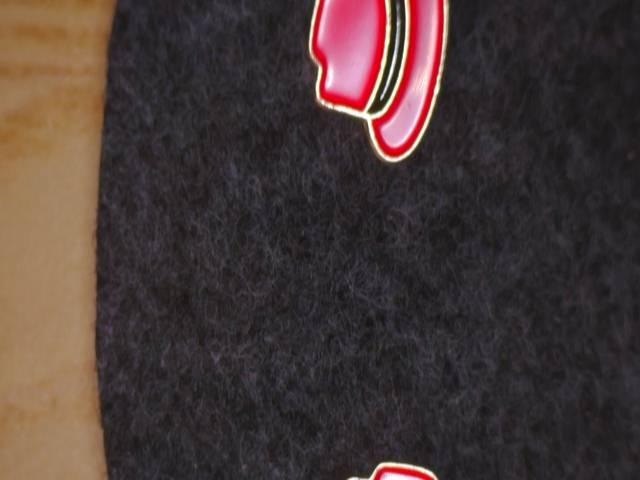Red-Hat: (288, 0, 468, 200)
